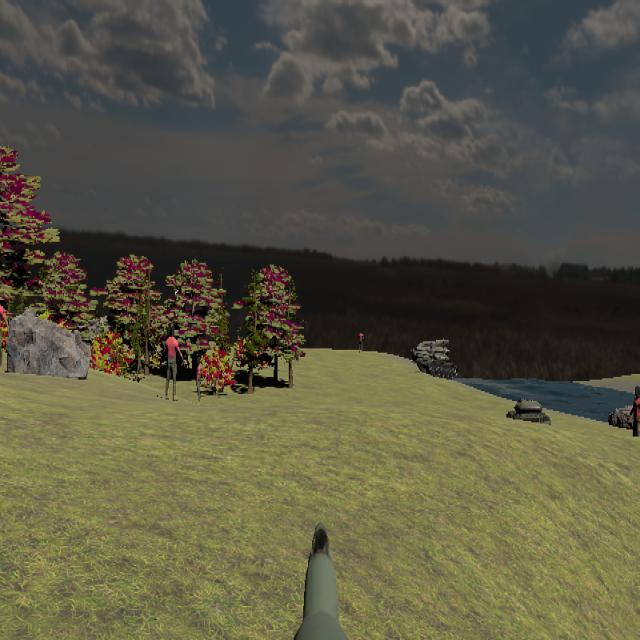Human: (160, 325, 185, 401), (629, 389, 640, 441)
Tank: (505, 395, 551, 432), (413, 350, 460, 381), (410, 335, 453, 366)
